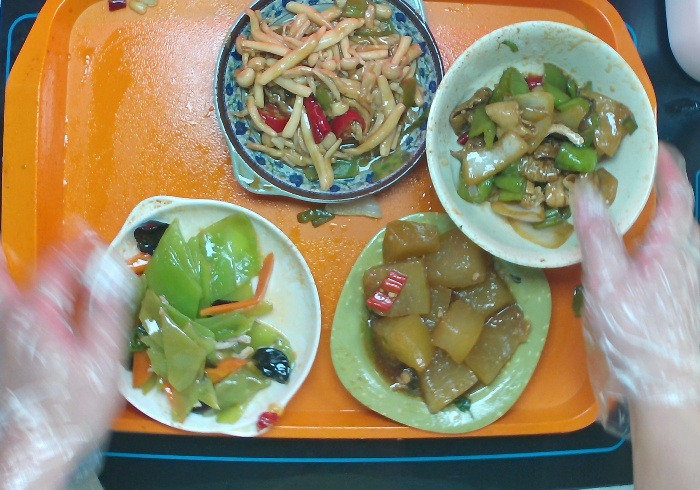NLDX-Bai_Se_Shuang_Er_Die: (88, 191, 325, 442)
NLDX-Bai_Se_Yuan_Wan: (420, 16, 661, 267)
NLDX-Lv_Hua_Fang_Die: (330, 207, 555, 436)
NLDX-Qing_Hua_Shuang_Er_Die: (210, 1, 444, 207)
